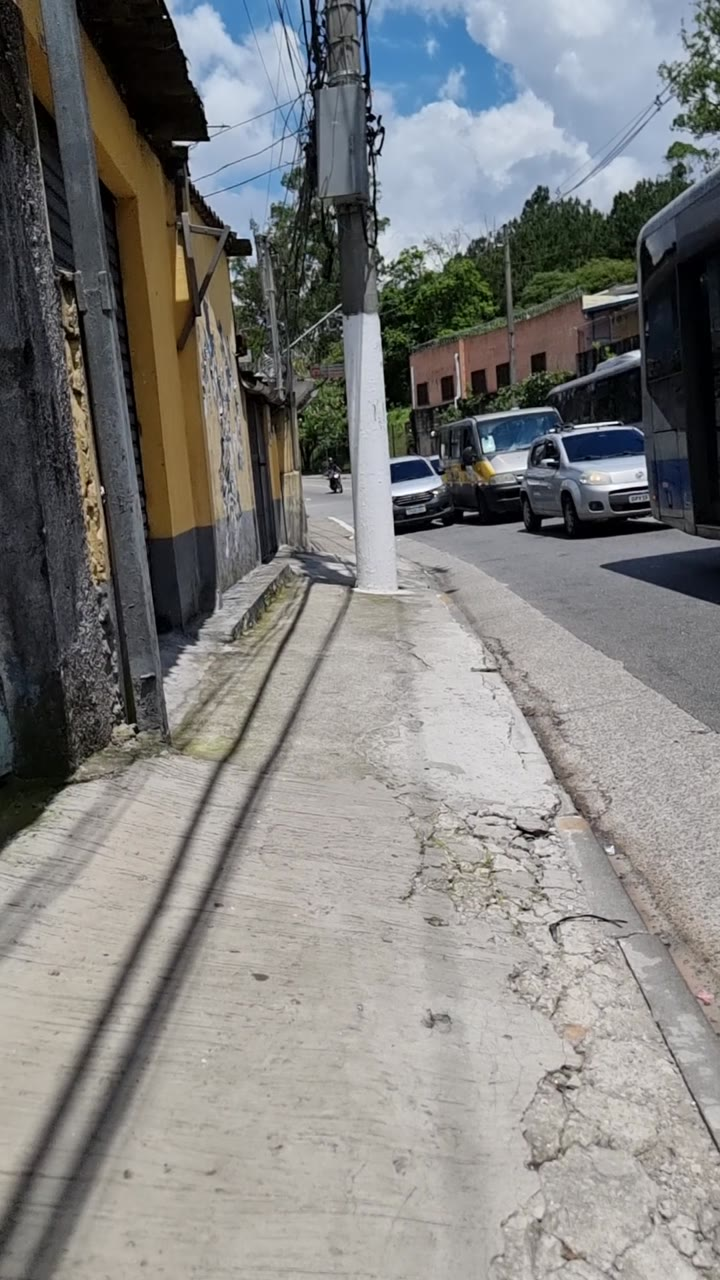obstaculo: (331, 0, 396, 640)
